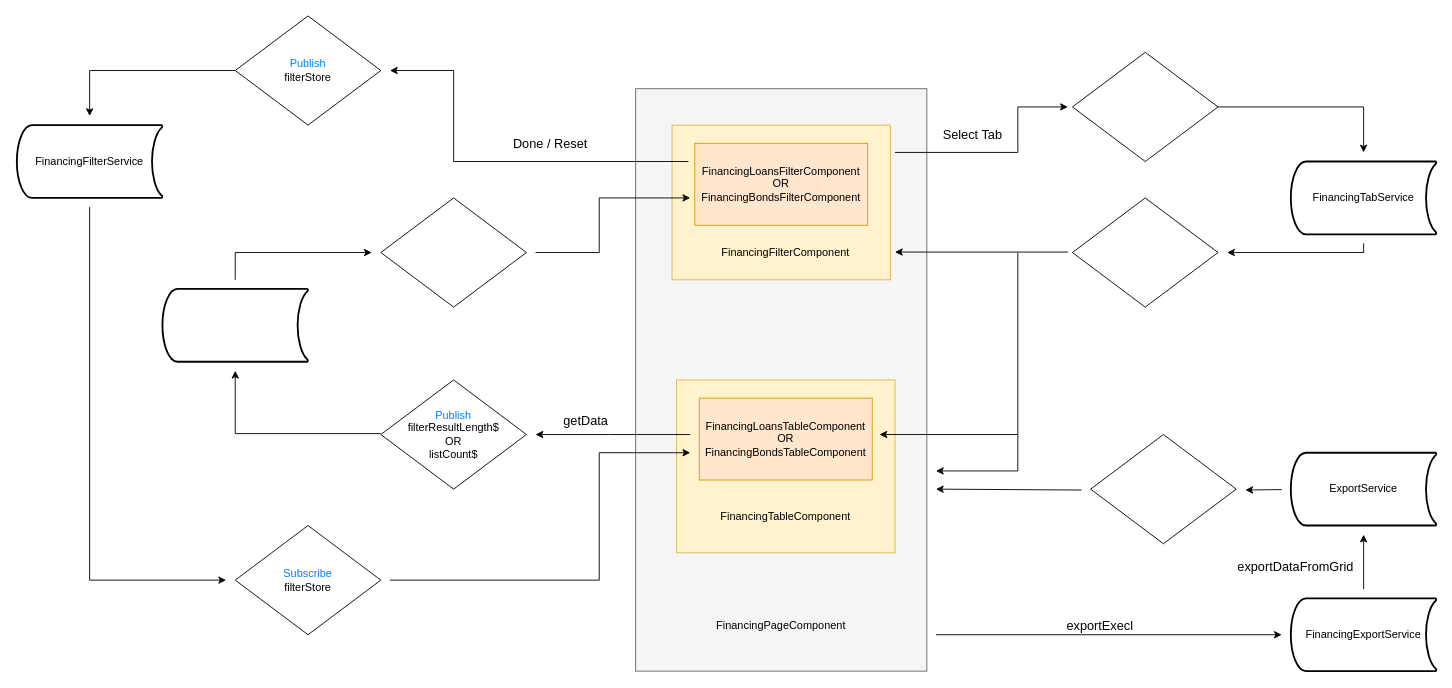
The diagram is 1452 pixels wide and 688 high, and some of its shapes have lost their labels. Here are the shapes that lost their labels. From the top down, the centre of each, then its label:
At point (1145, 106): "Publish store".
At point (453, 252): "Subscribe filterResultLength$ OR listCount$".
At point (1145, 252): "Subscribe store".
At point (234, 325): "FinancingLoansService OR FinancingBondsService".
At point (1163, 489): "Subscribe tasks".
